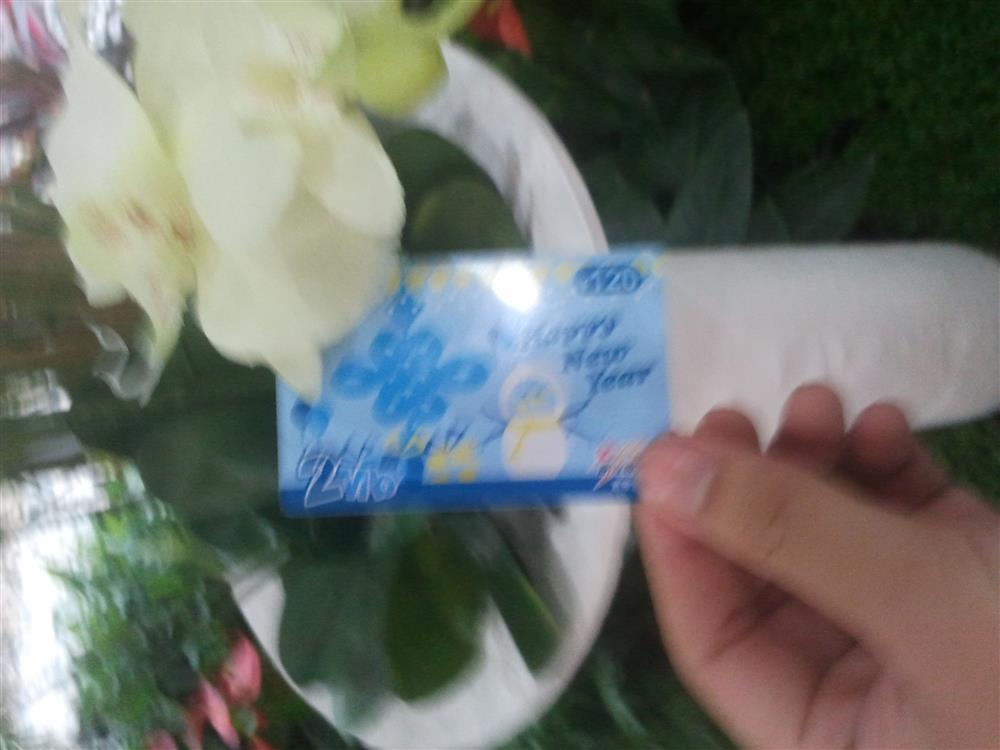china_unicom_card: (271, 223, 675, 522)
